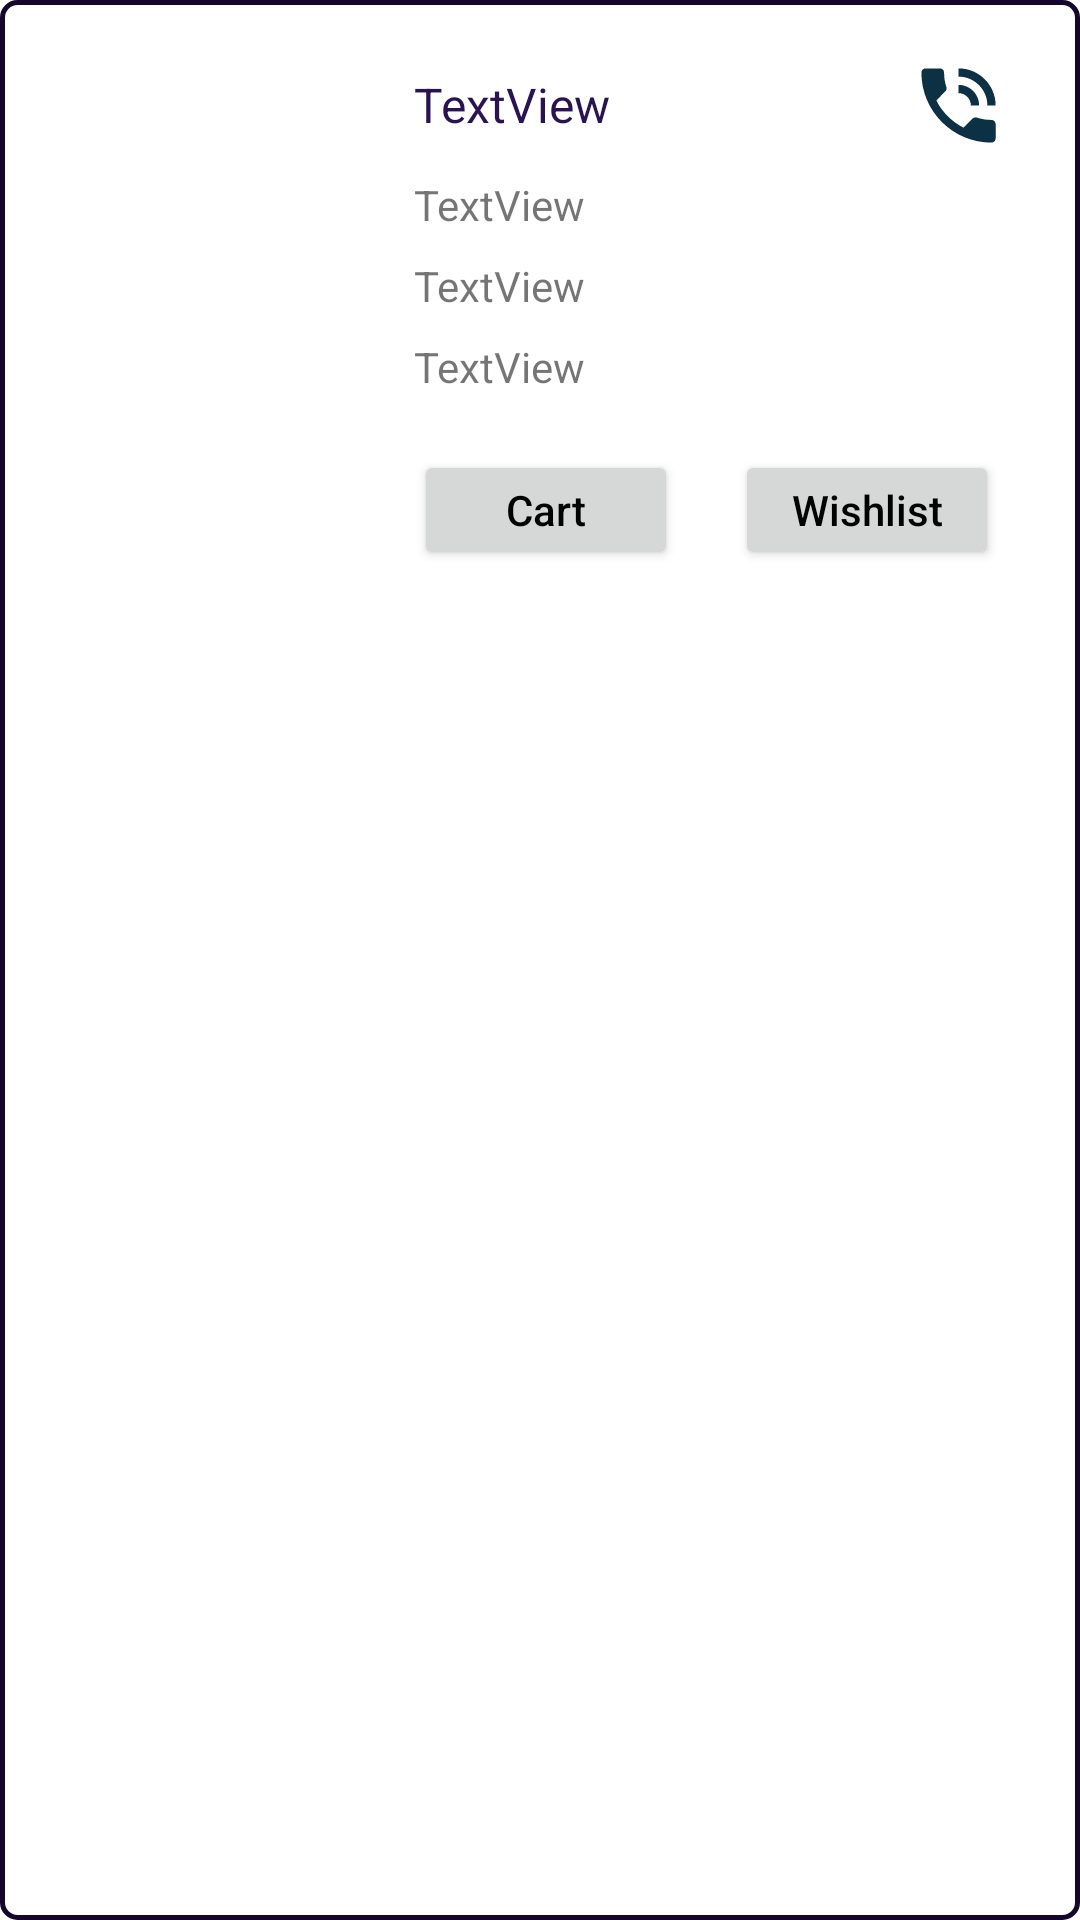

Icon bounding boxes for this 1080×1920 phone screenshot, format bbox(x1, y1, x2, y2):
phone: bbox(921, 68, 996, 143)
